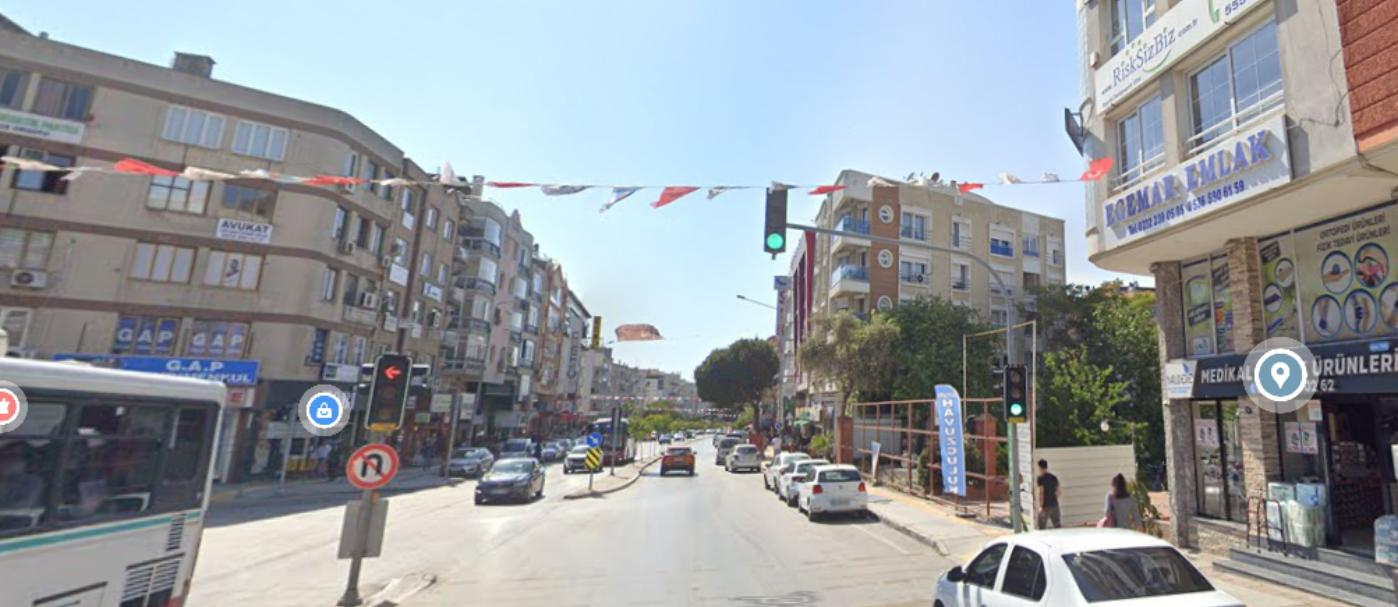greenlight: (1004, 362, 1028, 417), (767, 189, 787, 252)
